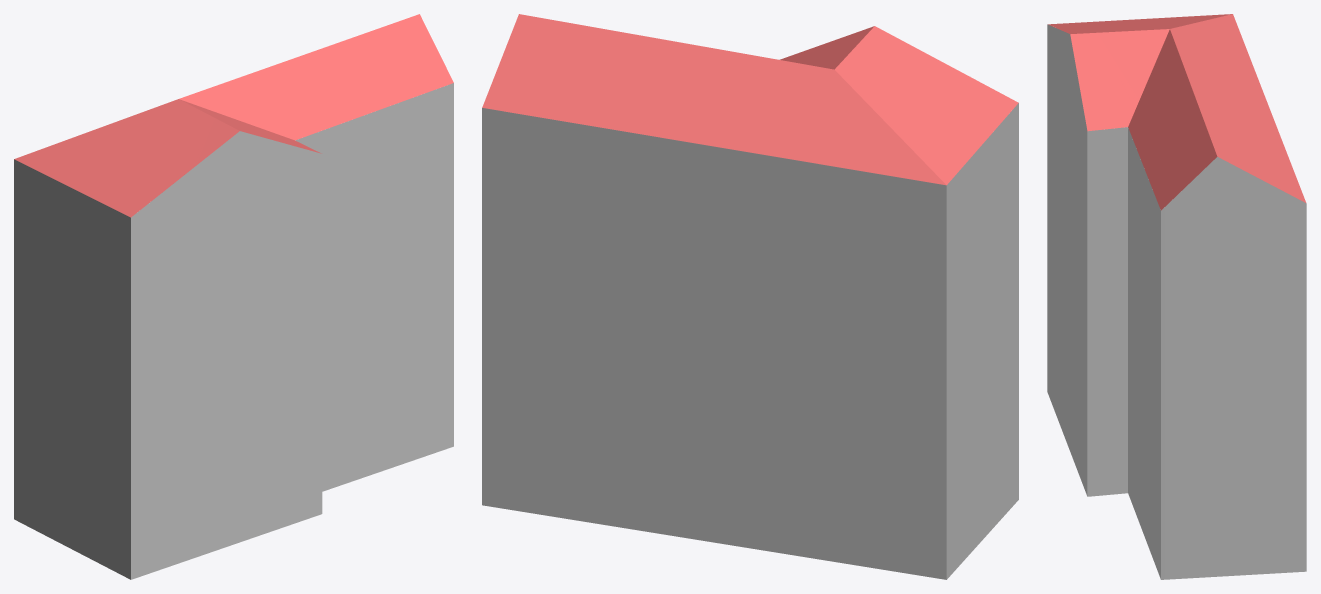
3 views of the same model, side by side, from view 1: azimuth 30°, elevation 25°; view 2: azimuth 150°, elevation 25°; view 3: azimuth 270°, elevation 25° (orthographic). The views are drawn at different scales.
Visible parts, largest first — view 1: Z_UP; view 2: Z_UP; view 3: Z_UP.
Part boxes in pixels (box(x1,y1,x2,y2)): Z_UP: box(14, 14, 453, 579); Z_UP: box(482, 14, 1018, 579); Z_UP: box(1047, 14, 1306, 579).
Bounding box in the file's own units: 27.09 × 26.48 × 14.8.
